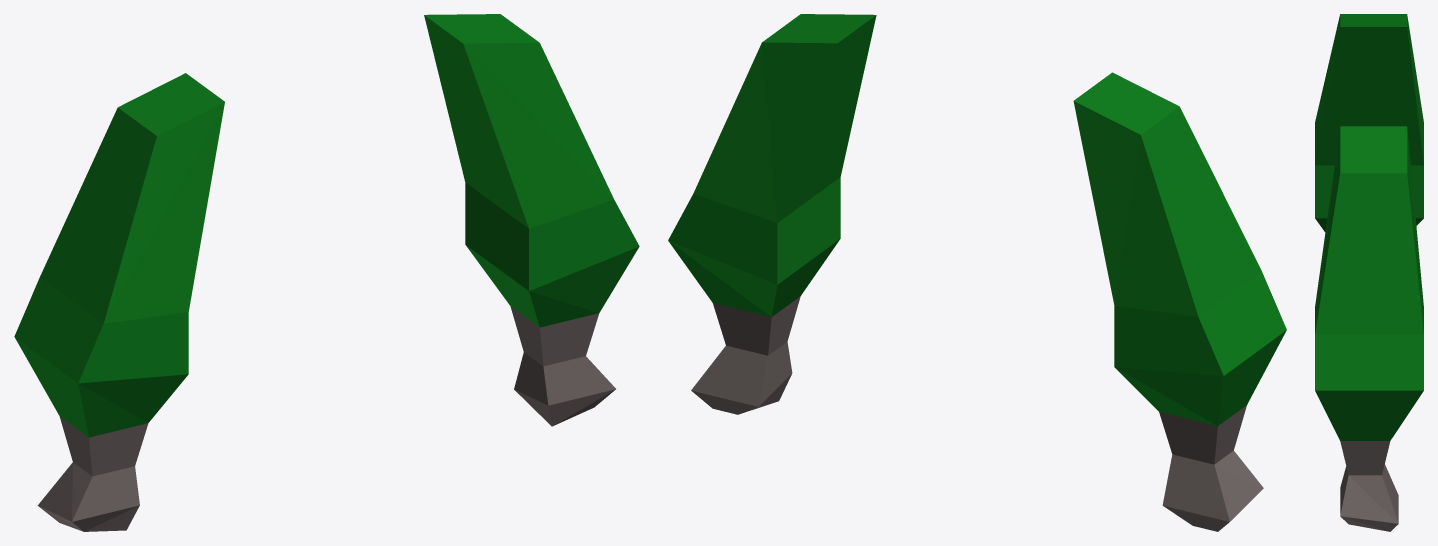
Rendered from npc_world_gnome_troop_2_2.obj.
3 views of the same model, side by side, from view 1: azimuth 30°, elevation 25°; view 2: azimuth 150°, elevation 25°; view 3: azimuth 270°, elevation 25° (orthographic). The views are drawn at different scales.
Bounding box in the file's own units: 0.5156 × 0.3594 × 0.1016.
